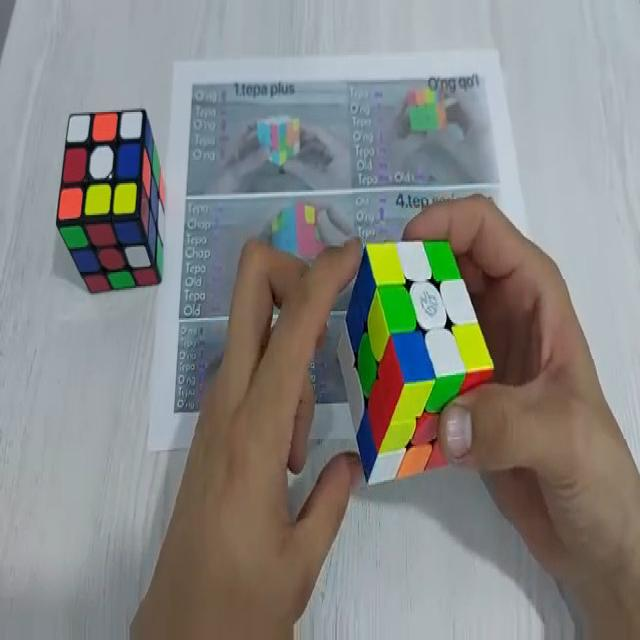Rub: (333, 234, 494, 488), (56, 107, 166, 289)
